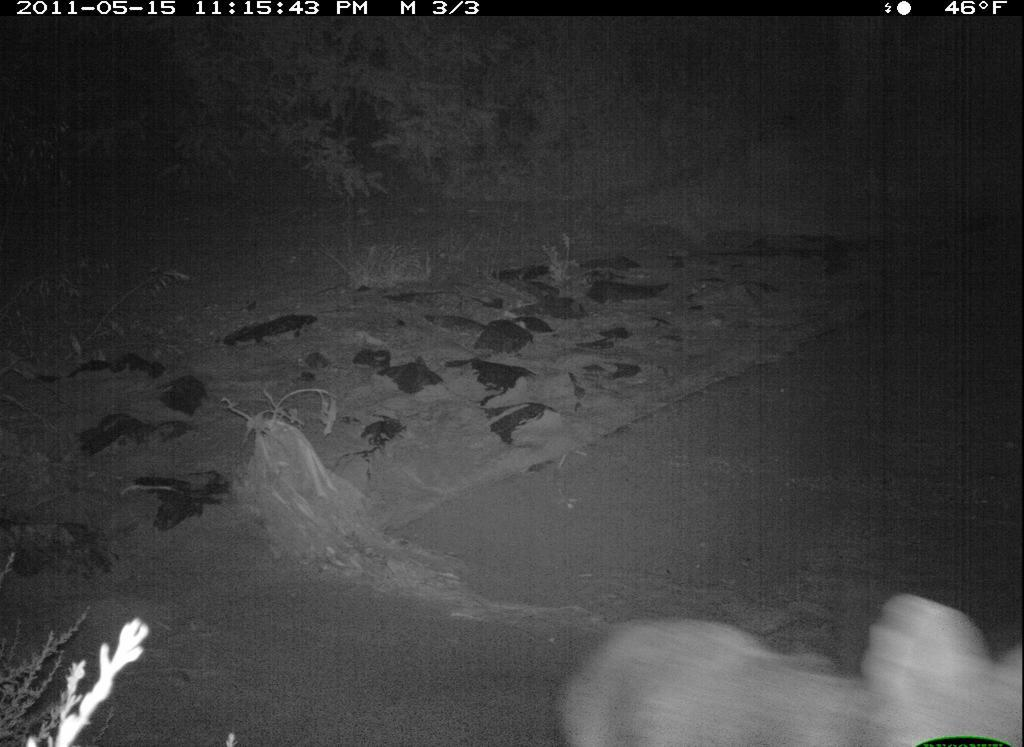coyote: (511, 584, 1023, 747)
